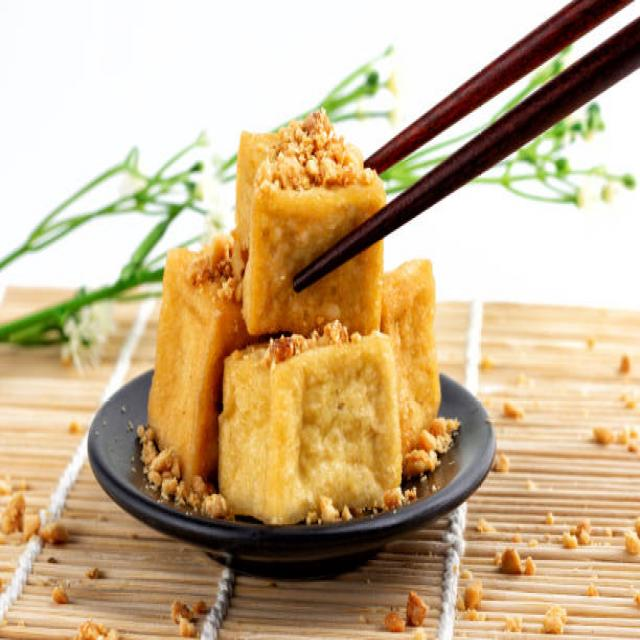Tofu Block: (222, 338, 404, 532), (234, 180, 384, 338), (148, 261, 218, 469)
